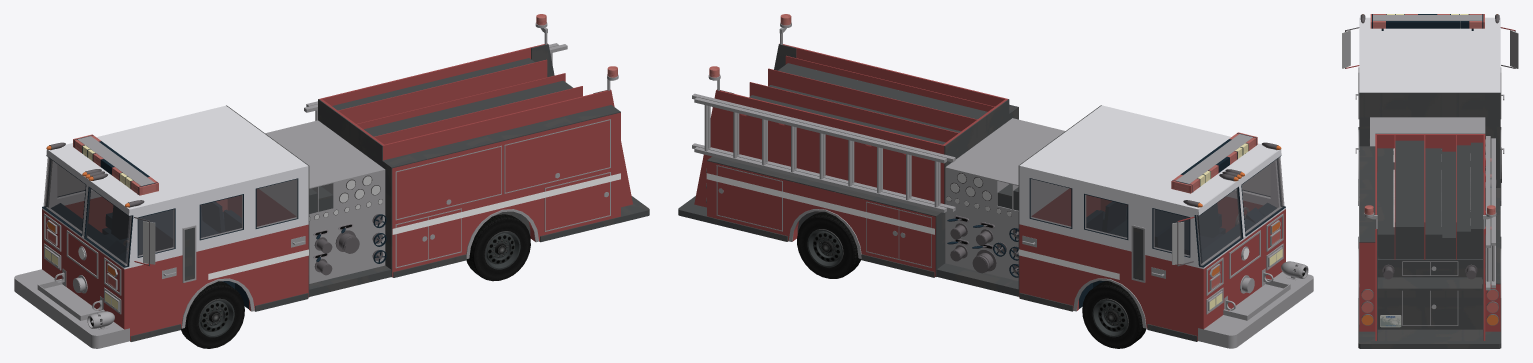
Rendered from fire-engine-pumper.glb.
3 renders of one model, left to right at view 1: azimuth 30°, elevation 25°; view 2: azimuth 150°, elevation 25°; view 3: azimuth 270°, elevation 25°, orthographic. The views are drawn at different scales.
Visible parts, largest first — view 1: FireEngine_2, Plane_0, Plane.004_5; view 2: FireEngine_2, Plane.001_3, Plane.002_4; view 3: FireEngine_2.
Part boxes in pixels (x1,y1,x2,y2): FireEngine_2: (14,14,649,348); Plane_0: (392,173,620,234); Plane.004_5: (208,249,308,279); FireEngine_2: (678,14,1313,348); Plane.001_3: (706,173,934,234); Plane.002_4: (1018,249,1119,279); FireEngine_2: (1342,14,1518,348).
Size of the model in its own units: 35.8 by 11.09 by 11.46.
28 materials, 8 textured.
